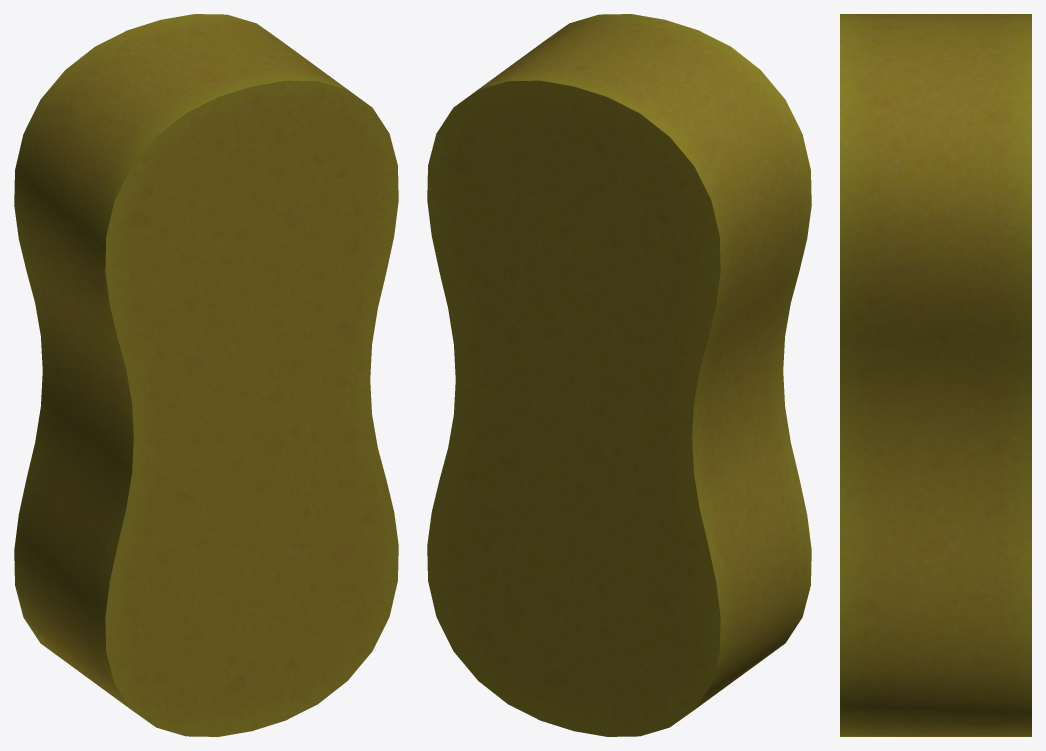
The picture shows the model from 3 angles, left to right: view 1: azimuth 30°, elevation 25°; view 2: azimuth 150°, elevation 25°; view 3: azimuth 270°, elevation 25°; orthographic projection. The views are drawn at different scales.
Parts seen in each view (by area): view 1: Object_3_Object_0; view 2: Object_3_Object_0; view 3: Object_3_Object_0.
Boxes of the visible parts, x1=… form: Object_3_Object_0: x1=14, y1=14, x2=398, y2=736; Object_3_Object_0: x1=427, y1=14, x2=811, y2=736; Object_3_Object_0: x1=840, y1=14, x2=1031, y2=736.
Size of the model in its own units: 0.0429 by 0.09 by 0.0231.
1 material, 1 textured.
